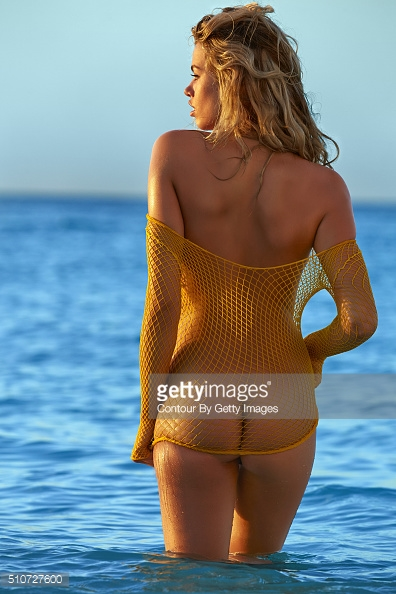em pe: (117, 0, 367, 475)
